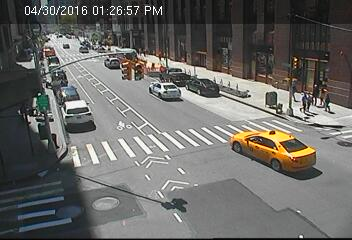neg: (38, 122, 62, 154), (23, 54, 45, 83), (223, 71, 243, 98), (225, 119, 241, 141), (39, 68, 55, 89), (74, 36, 87, 52), (92, 42, 103, 58)
pos: (295, 90, 314, 115), (306, 83, 324, 107), (320, 91, 337, 114), (314, 85, 331, 107), (302, 91, 318, 112)
